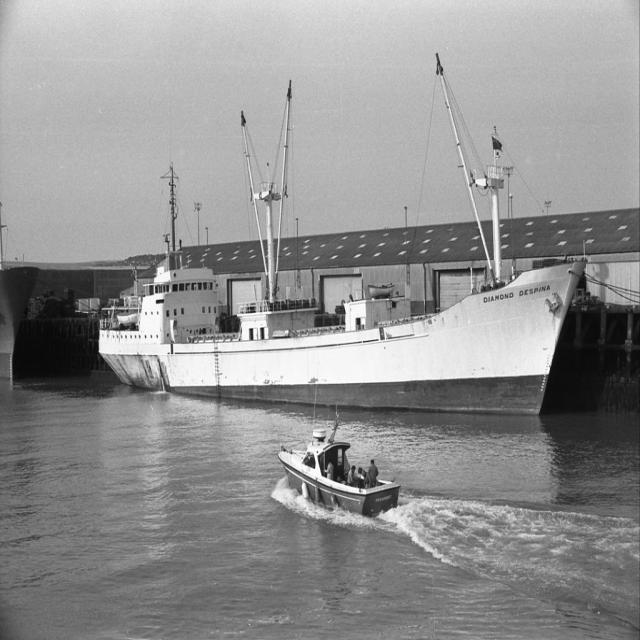Boat: (98, 49, 590, 418), (266, 430, 411, 532)
